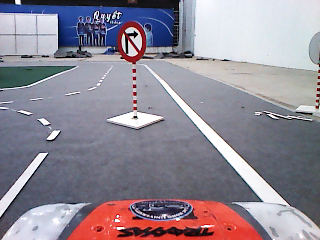ban: (117, 20, 147, 63)
